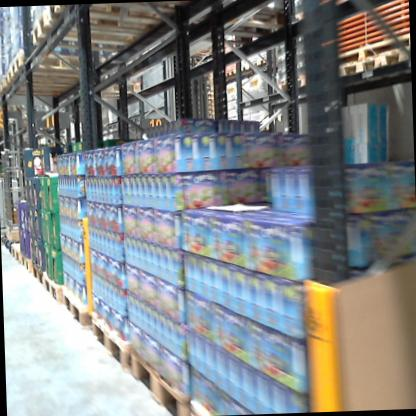pallet: (26, 1, 203, 64), (10, 44, 133, 84), (128, 341, 192, 416), (87, 311, 131, 376), (81, 77, 147, 103), (271, 62, 316, 96), (7, 63, 68, 88), (60, 283, 93, 328), (335, 53, 380, 82), (41, 267, 62, 306), (378, 45, 411, 69), (18, 251, 36, 281), (31, 260, 46, 286), (9, 243, 25, 266), (258, 53, 276, 69), (221, 65, 239, 79), (238, 59, 248, 74), (249, 59, 261, 71)
